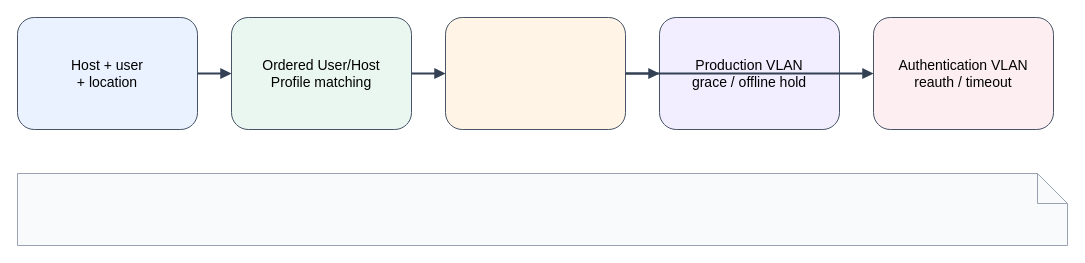
Image size: 1085x263. Some labels were removed from this diagram. Each missing label, with the centre of its shape:
"Authentication configuration timers" goes at point 535,73.
"Catch-all policy must be last; first matching profile wins" goes at point 542,209.
